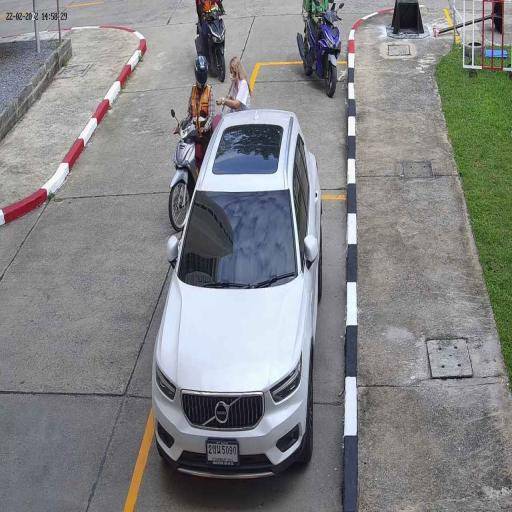car: (150, 108, 324, 486)
motorcycle: (168, 113, 203, 238), (296, 12, 342, 101), (194, 15, 228, 82)
